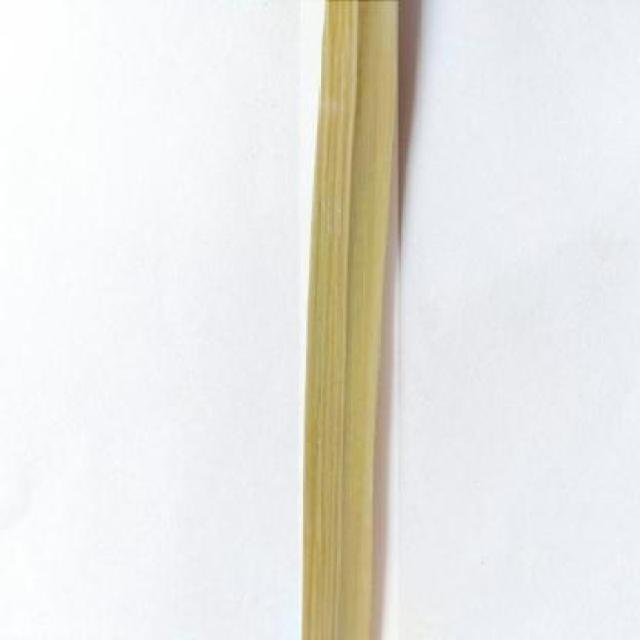Rice False Smut: (298, 0, 398, 638)
